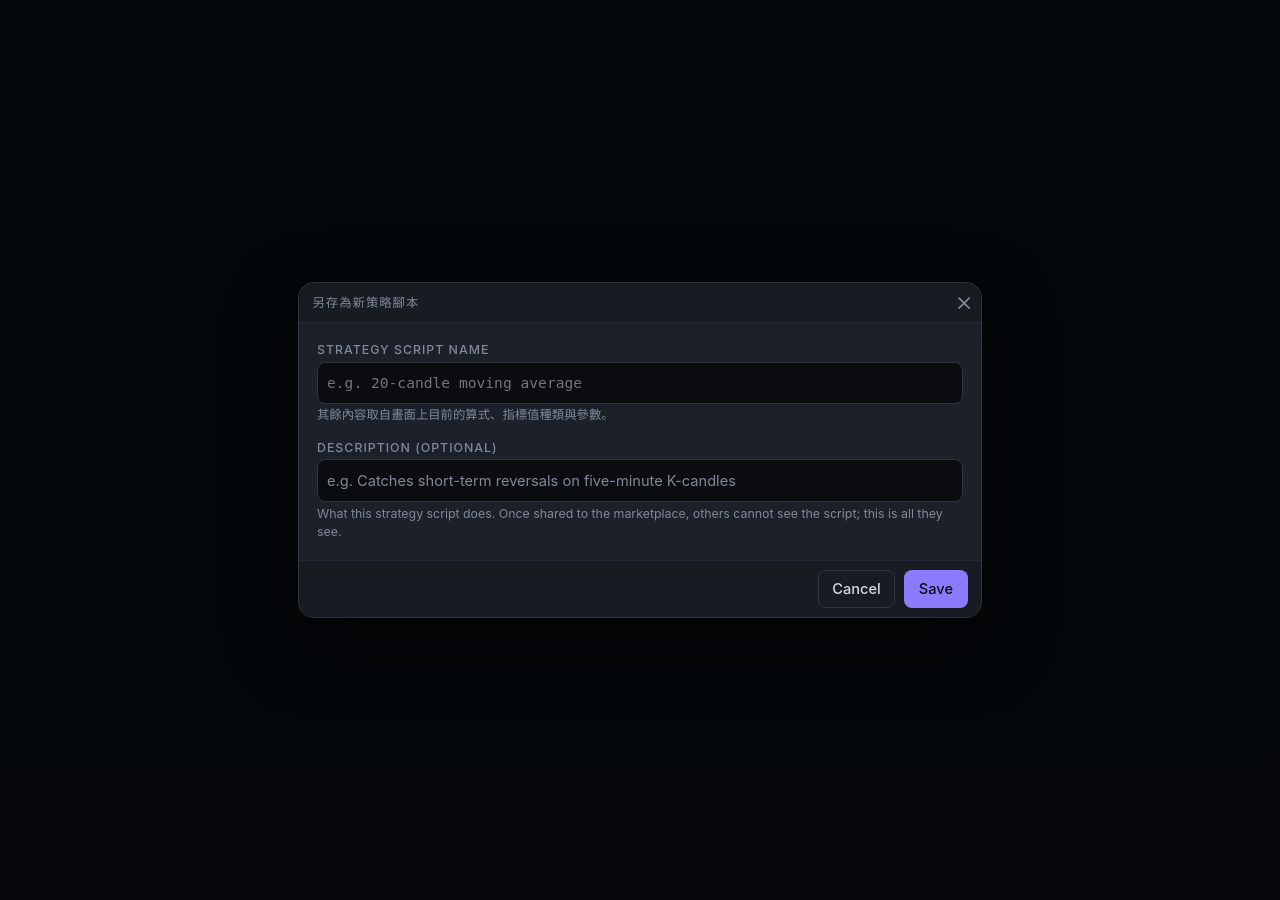
Test: StrategyScriptNameDialog › 英文畫面上，沒填名稱的那一句與按鈕都是英文
This screenshot has width=1280, height=900.
Click the button with test id "strategy-script-name-submit".
click(936, 589)  # box [904,570,968,608]
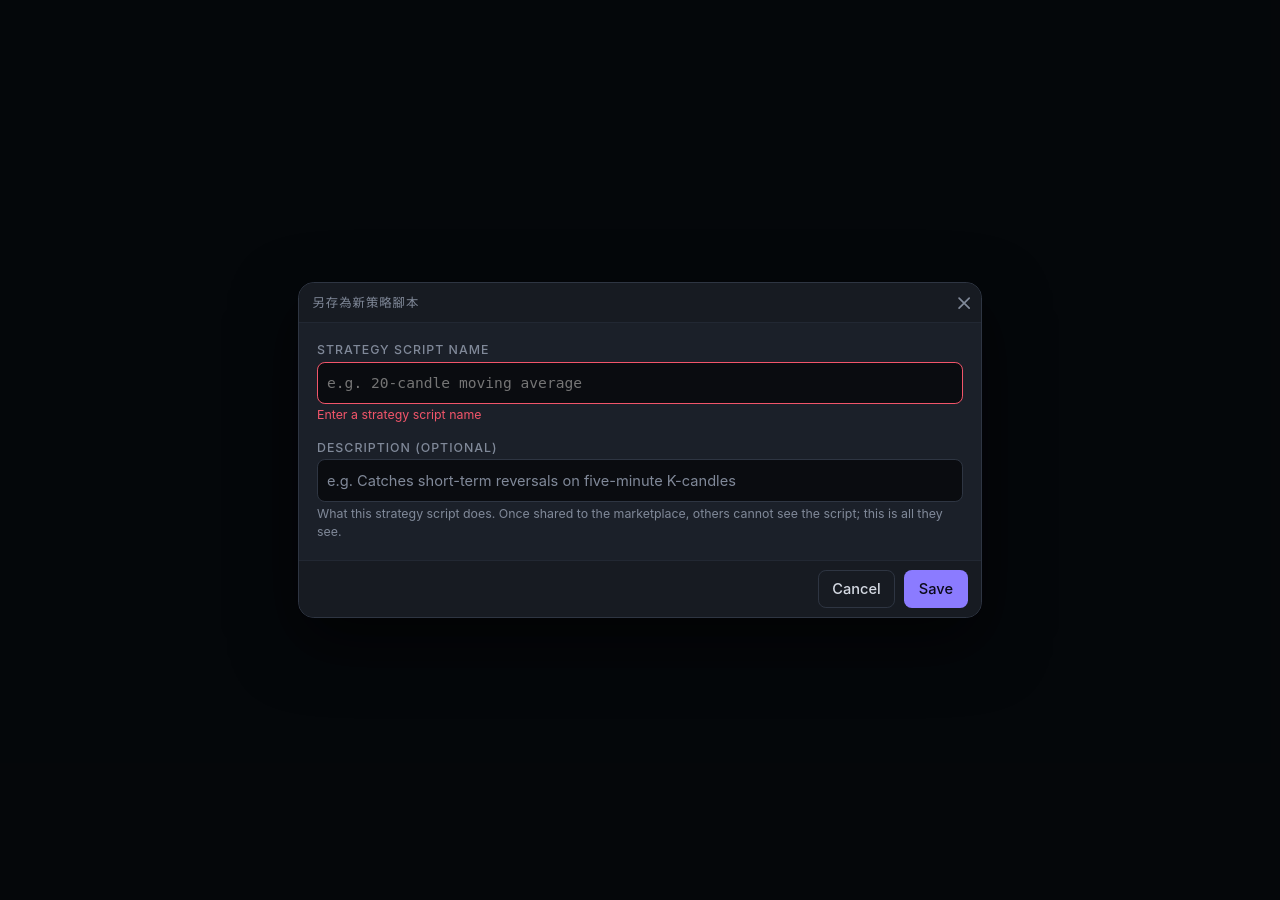
Expected: the text with test id "field-error" reads "Enter a strategy script name", [317,408,481,422]
